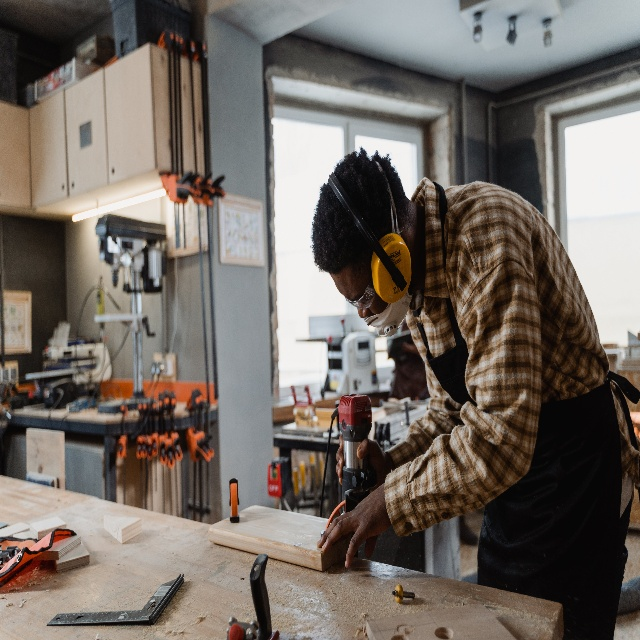Gafas: (343, 285, 376, 306)
Guantes: (327, 172, 413, 302)
Mascara: (366, 298, 411, 333)
Sin_guantes: (316, 481, 391, 568), (334, 433, 389, 487)
